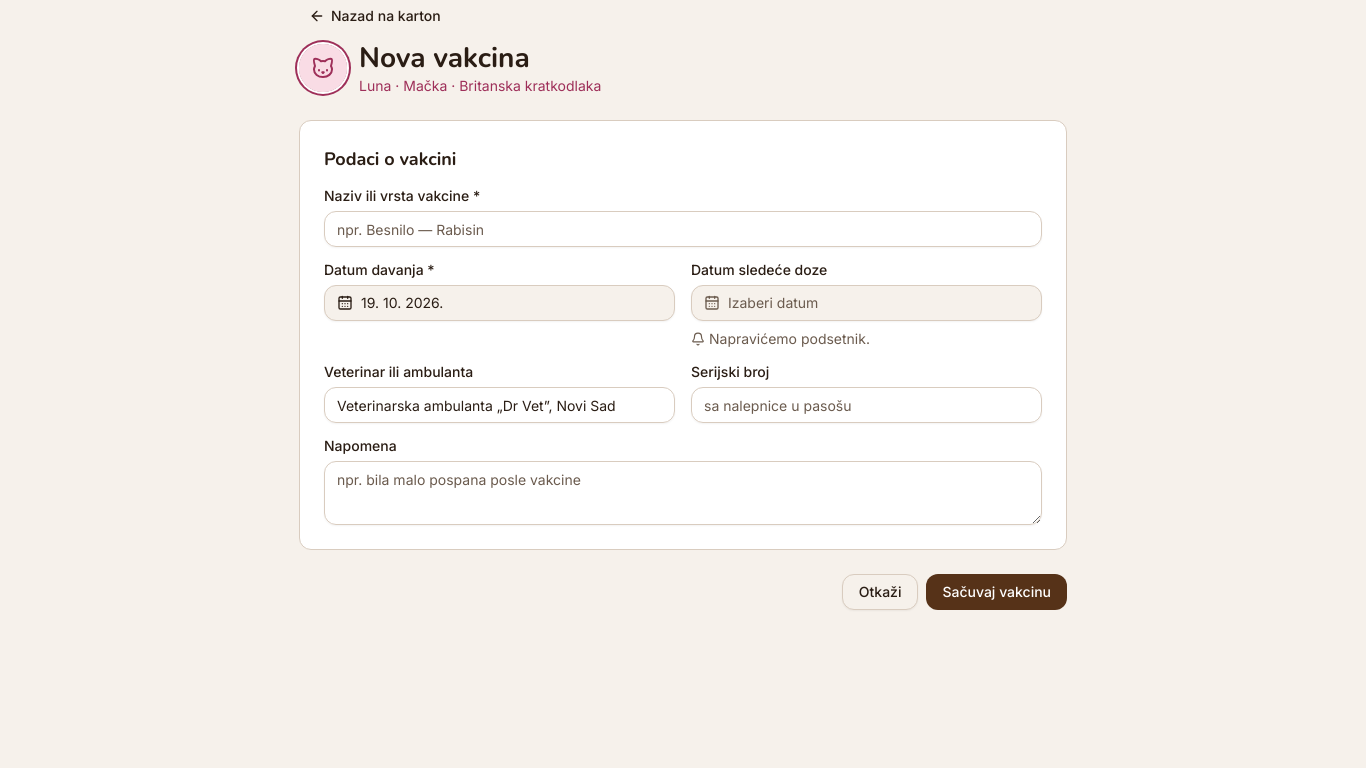
Test: S04 — new vaccination › 422 before_start → the inline next-dose error
Type "Besnilo" into the field labelled "Naziv ili vrsta vakcine *". click: (683, 229)
box: [324,211,1042,247]
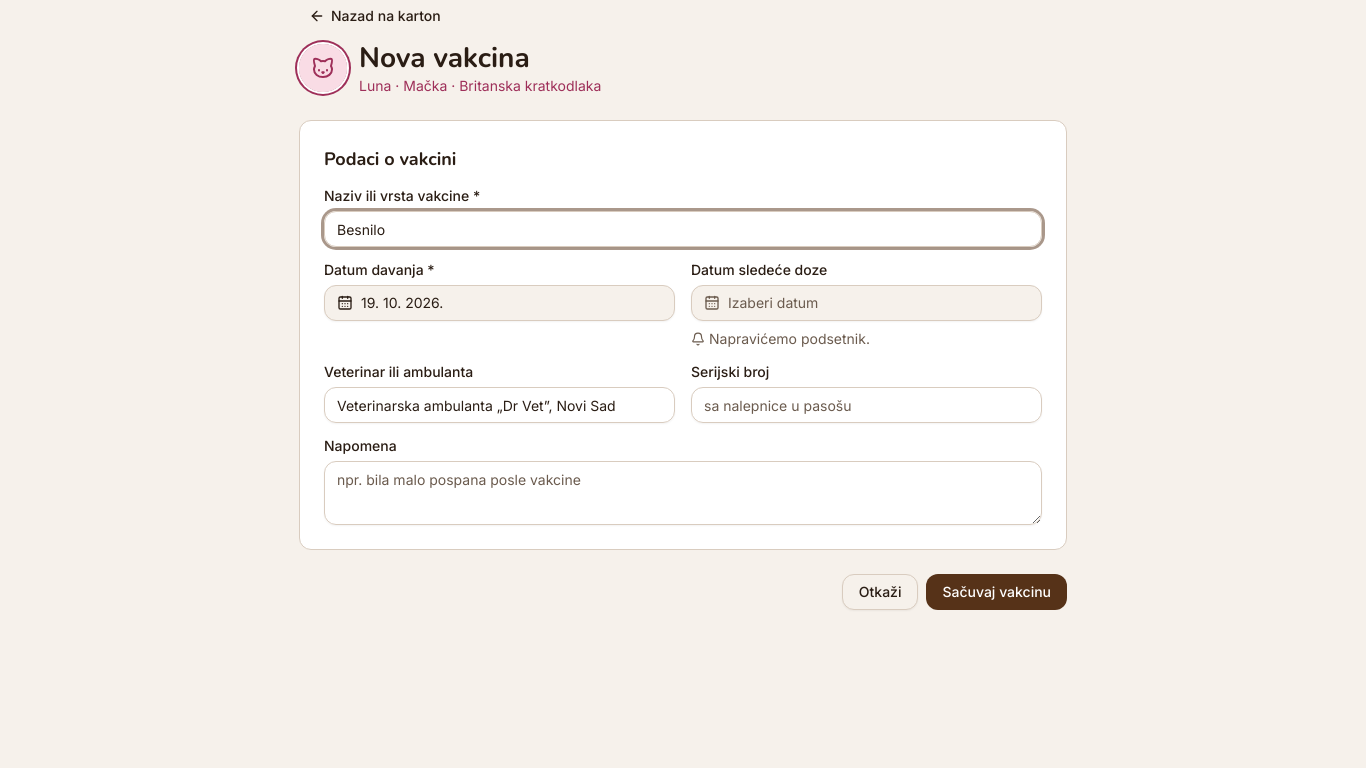
Click the button named "Datum sledeće doze". click: click(773, 302)
box: [691,285,1042,321]
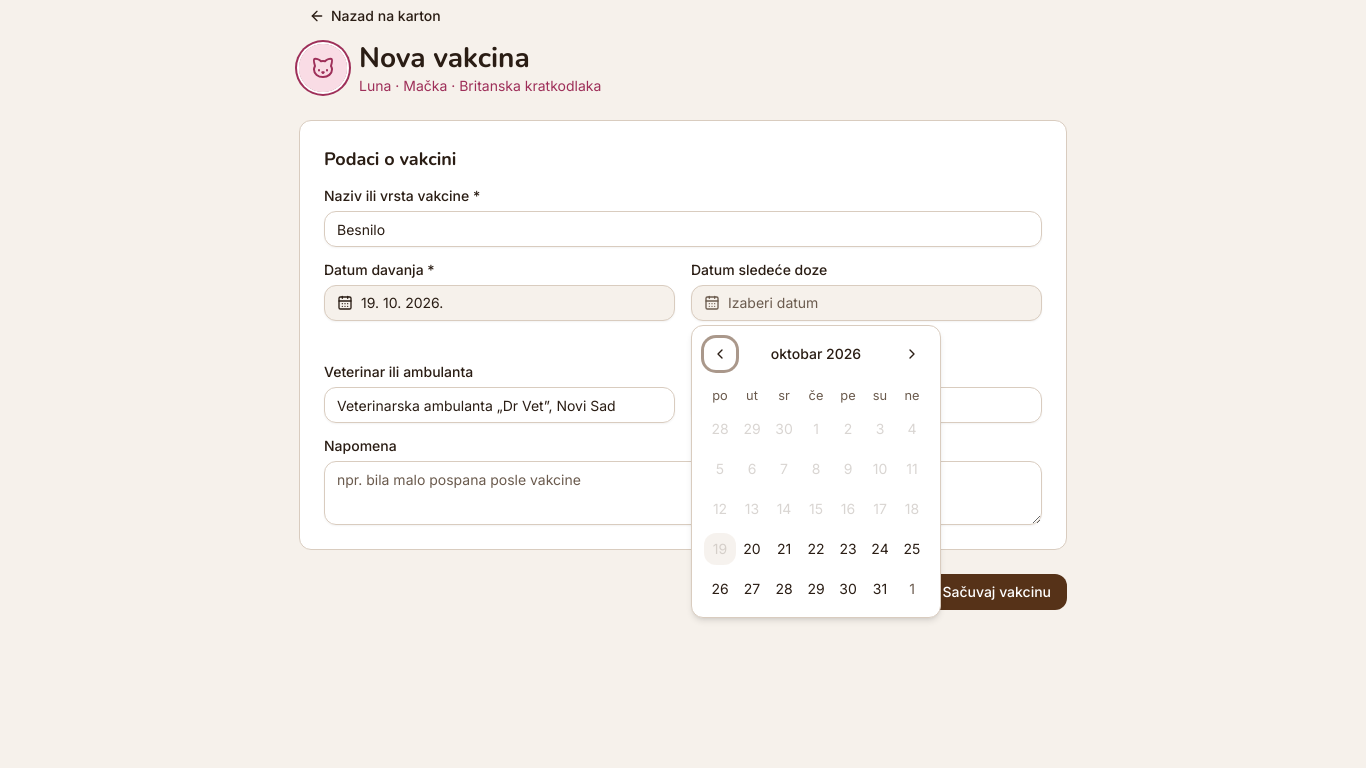
Click the button "26". click: click(720, 589)
box: [704,573,736,605]
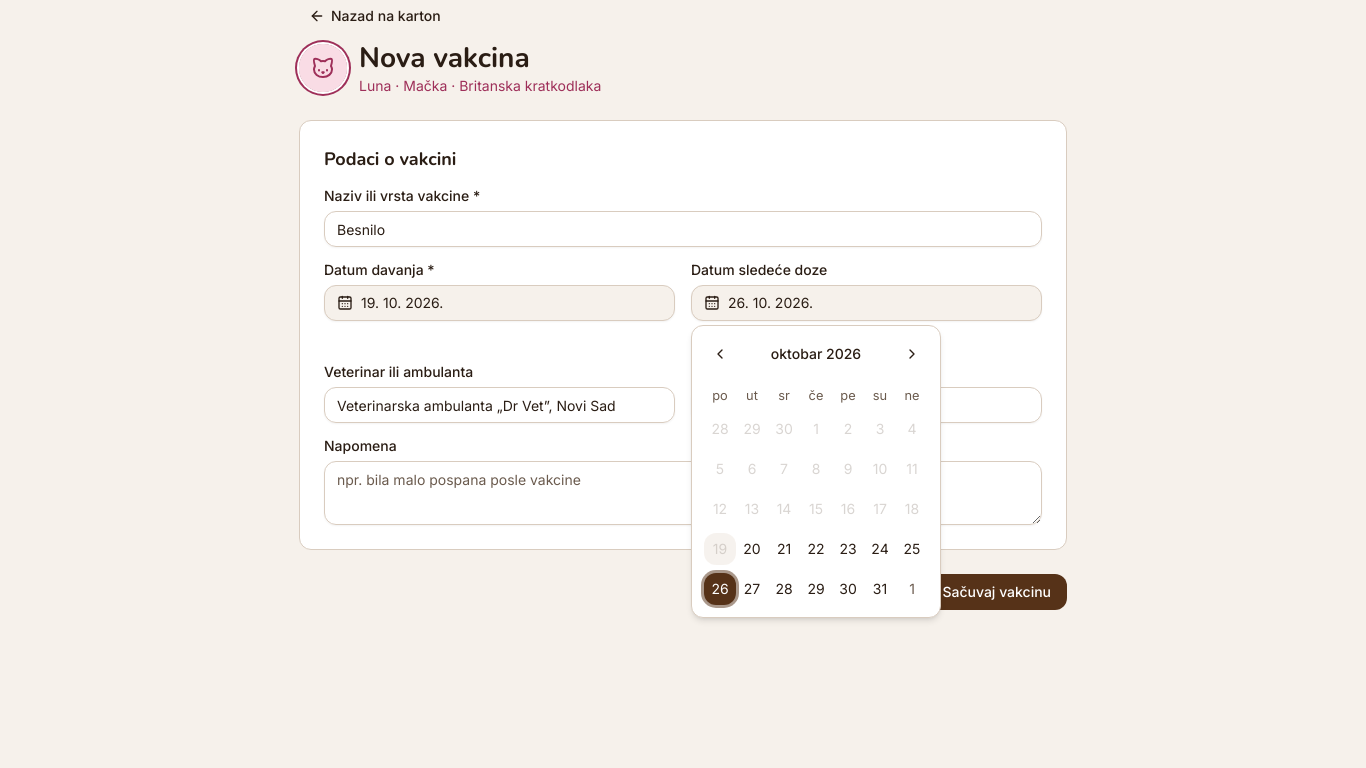
Click the button "Sačuvaj vakcinu". click: click(997, 592)
box: [926,574,1067,610]
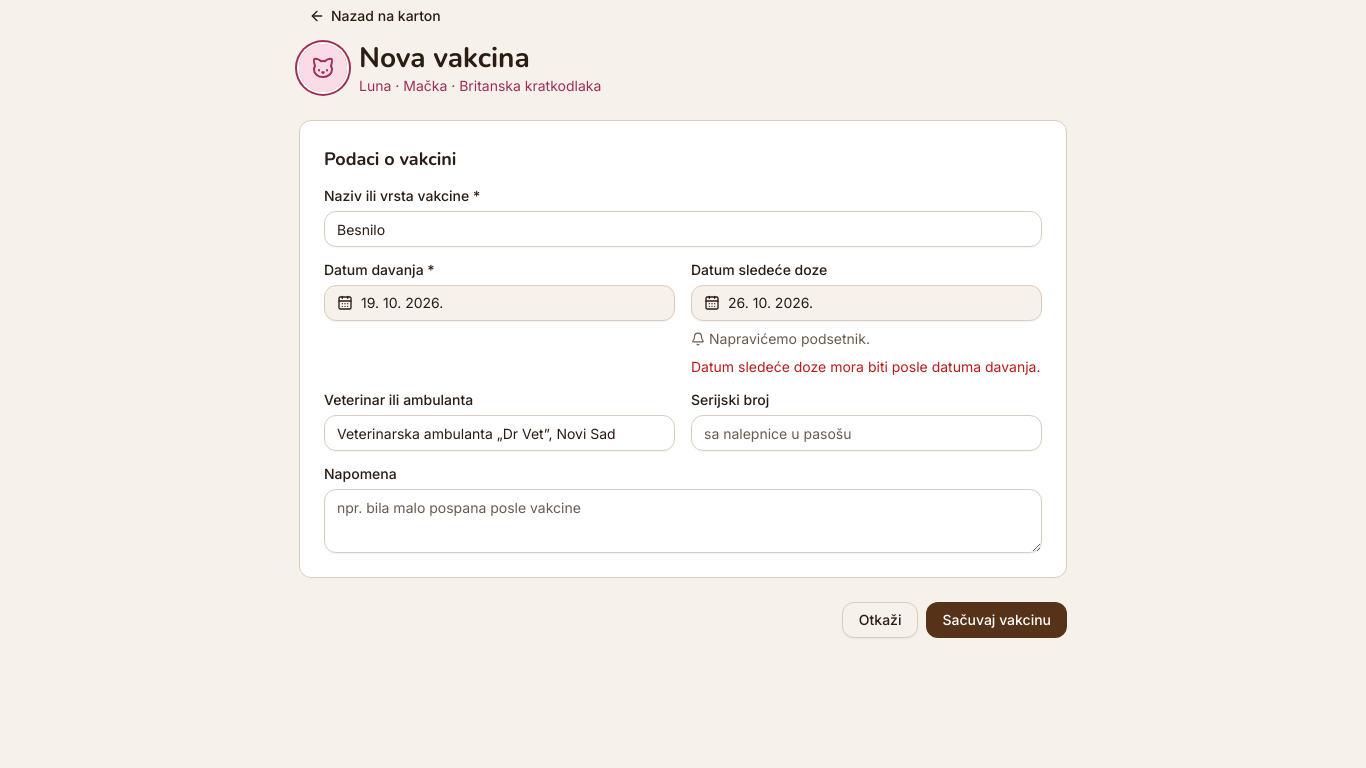
Now the text "Datum sledeće doze mora biti posle datuma davanja." is shown, box [691,357,1042,377]
